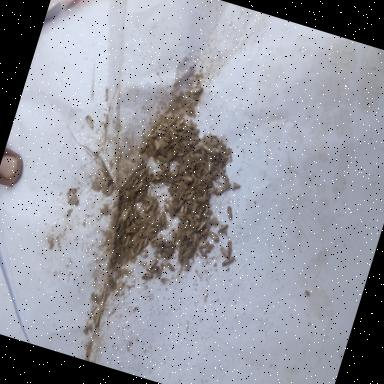pbw: (188, 150, 204, 166), (220, 254, 234, 270), (214, 182, 228, 198), (222, 205, 235, 221), (181, 244, 193, 261), (188, 84, 202, 98), (142, 199, 154, 215), (168, 231, 179, 248), (217, 246, 231, 259), (206, 230, 220, 243), (145, 256, 156, 272), (224, 238, 234, 255), (198, 144, 212, 156), (216, 222, 228, 236), (174, 176, 186, 190), (136, 142, 148, 155), (145, 130, 158, 142), (166, 128, 178, 141), (172, 116, 183, 130), (168, 147, 178, 162), (179, 140, 191, 152), (191, 140, 202, 153), (195, 248, 208, 259), (170, 164, 180, 178), (128, 178, 138, 192), (176, 130, 190, 140), (198, 174, 208, 188), (194, 220, 204, 234), (141, 270, 152, 282), (206, 185, 218, 196), (198, 227, 208, 240), (137, 166, 146, 180), (204, 244, 214, 256), (194, 194, 206, 204), (124, 234, 132, 248), (204, 160, 212, 174), (189, 202, 197, 216), (197, 240, 208, 250), (191, 232, 201, 243), (158, 119, 170, 128), (186, 188, 195, 200), (150, 174, 160, 184), (151, 140, 161, 150), (188, 174, 198, 184), (181, 173, 192, 182), (151, 234, 162, 243), (136, 158, 144, 170), (181, 202, 189, 214), (154, 154, 166, 162), (136, 241, 144, 253), (178, 201, 186, 213), (128, 174, 136, 186), (142, 236, 149, 249), (174, 211, 184, 220), (124, 227, 135, 235), (154, 128, 165, 136), (178, 244, 184, 258), (138, 224, 146, 234), (136, 181, 144, 191), (200, 213, 210, 221), (160, 172, 168, 182), (122, 210, 128, 222), (160, 140, 169, 148), (212, 166, 219, 176), (182, 121, 192, 128), (164, 162, 172, 170), (159, 215, 166, 224), (182, 218, 188, 228), (184, 188, 190, 198), (174, 150, 184, 156), (204, 204, 209, 214), (192, 212, 200, 218), (232, 182, 240, 188), (164, 248, 170, 254), (218, 168, 224, 174), (207, 178, 212, 182)
